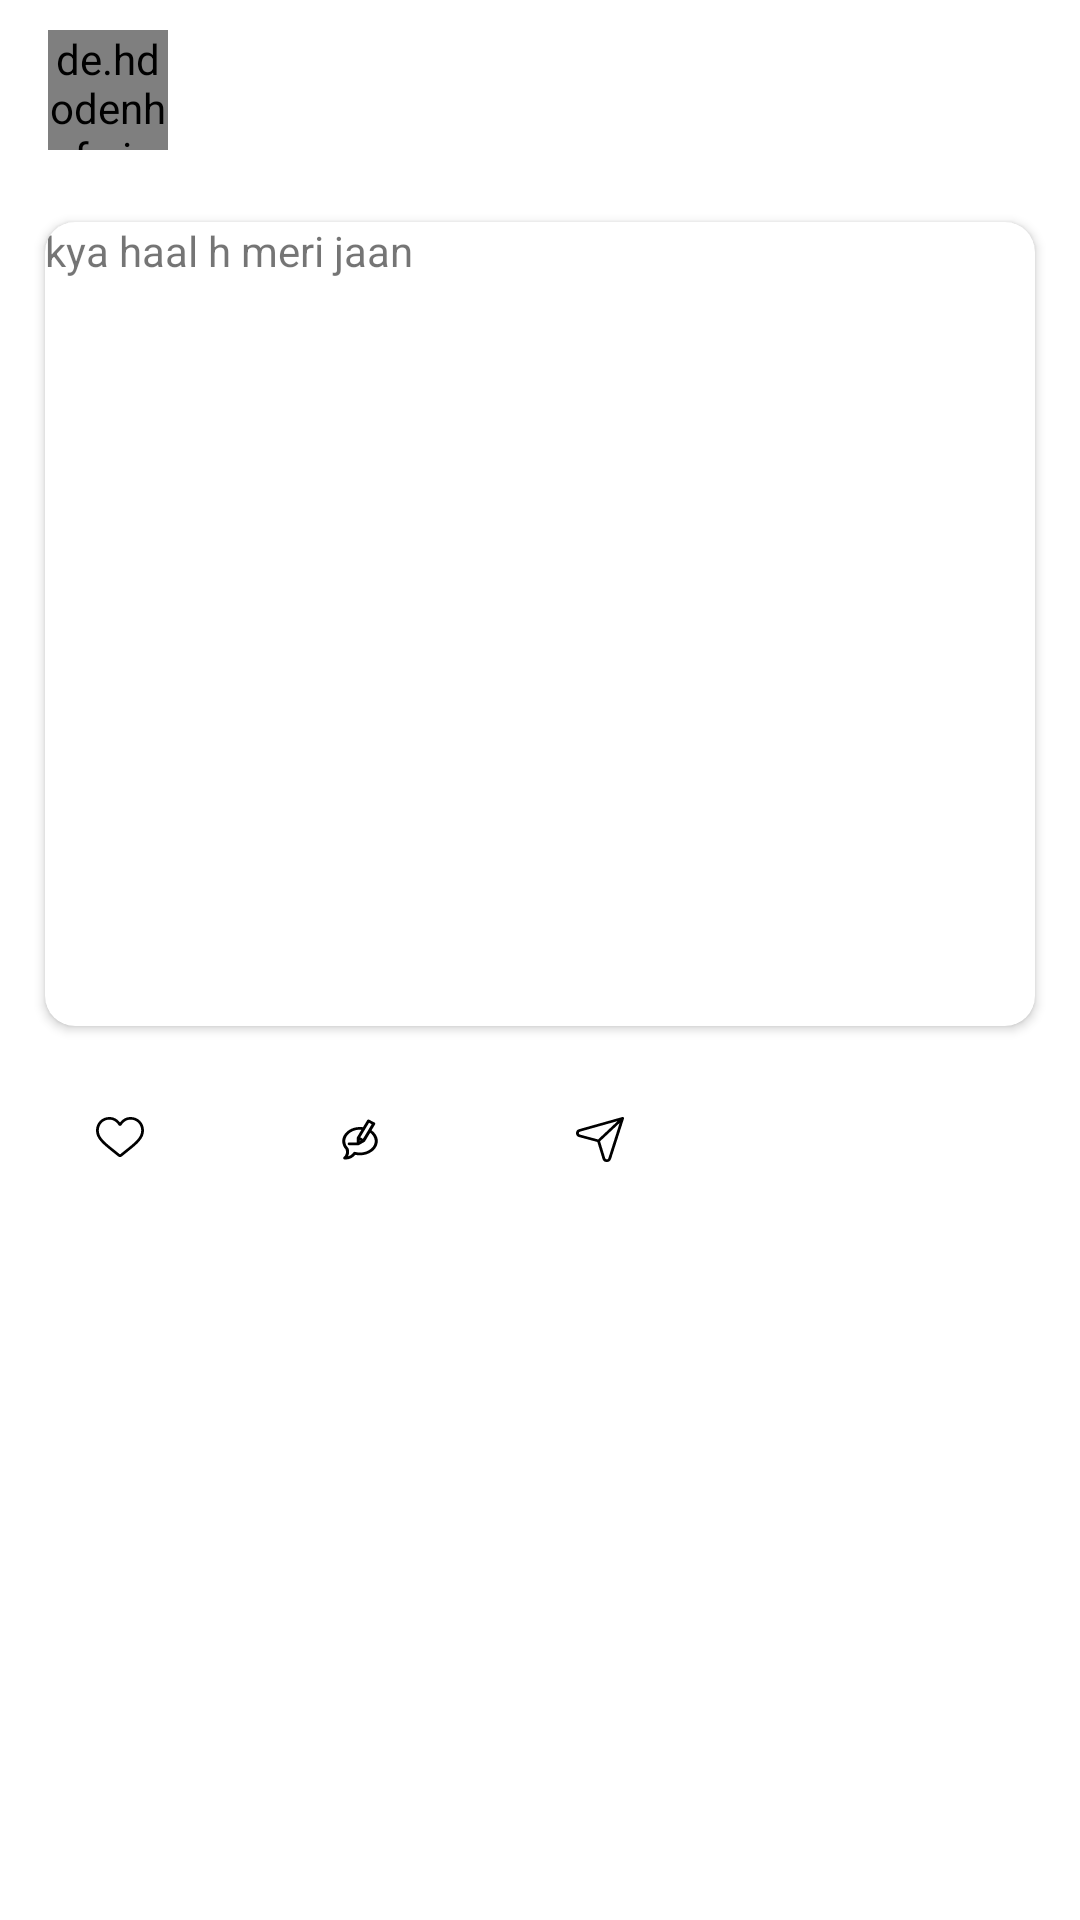

Screen size 1080×1920. Icon name, then its center in pixels as (x,y):
comment: (360,1139)
like: (120,1137)
share: (600,1139)
